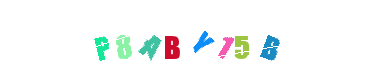1: (182, 0, 262, 80)
5: (201, 0, 281, 80)
8: (93, 0, 173, 80)
A: (113, 0, 193, 80)
B: (131, 0, 211, 80), (204, 0, 284, 80)
P: (61, 0, 141, 80)
Y: (144, 0, 224, 80)
